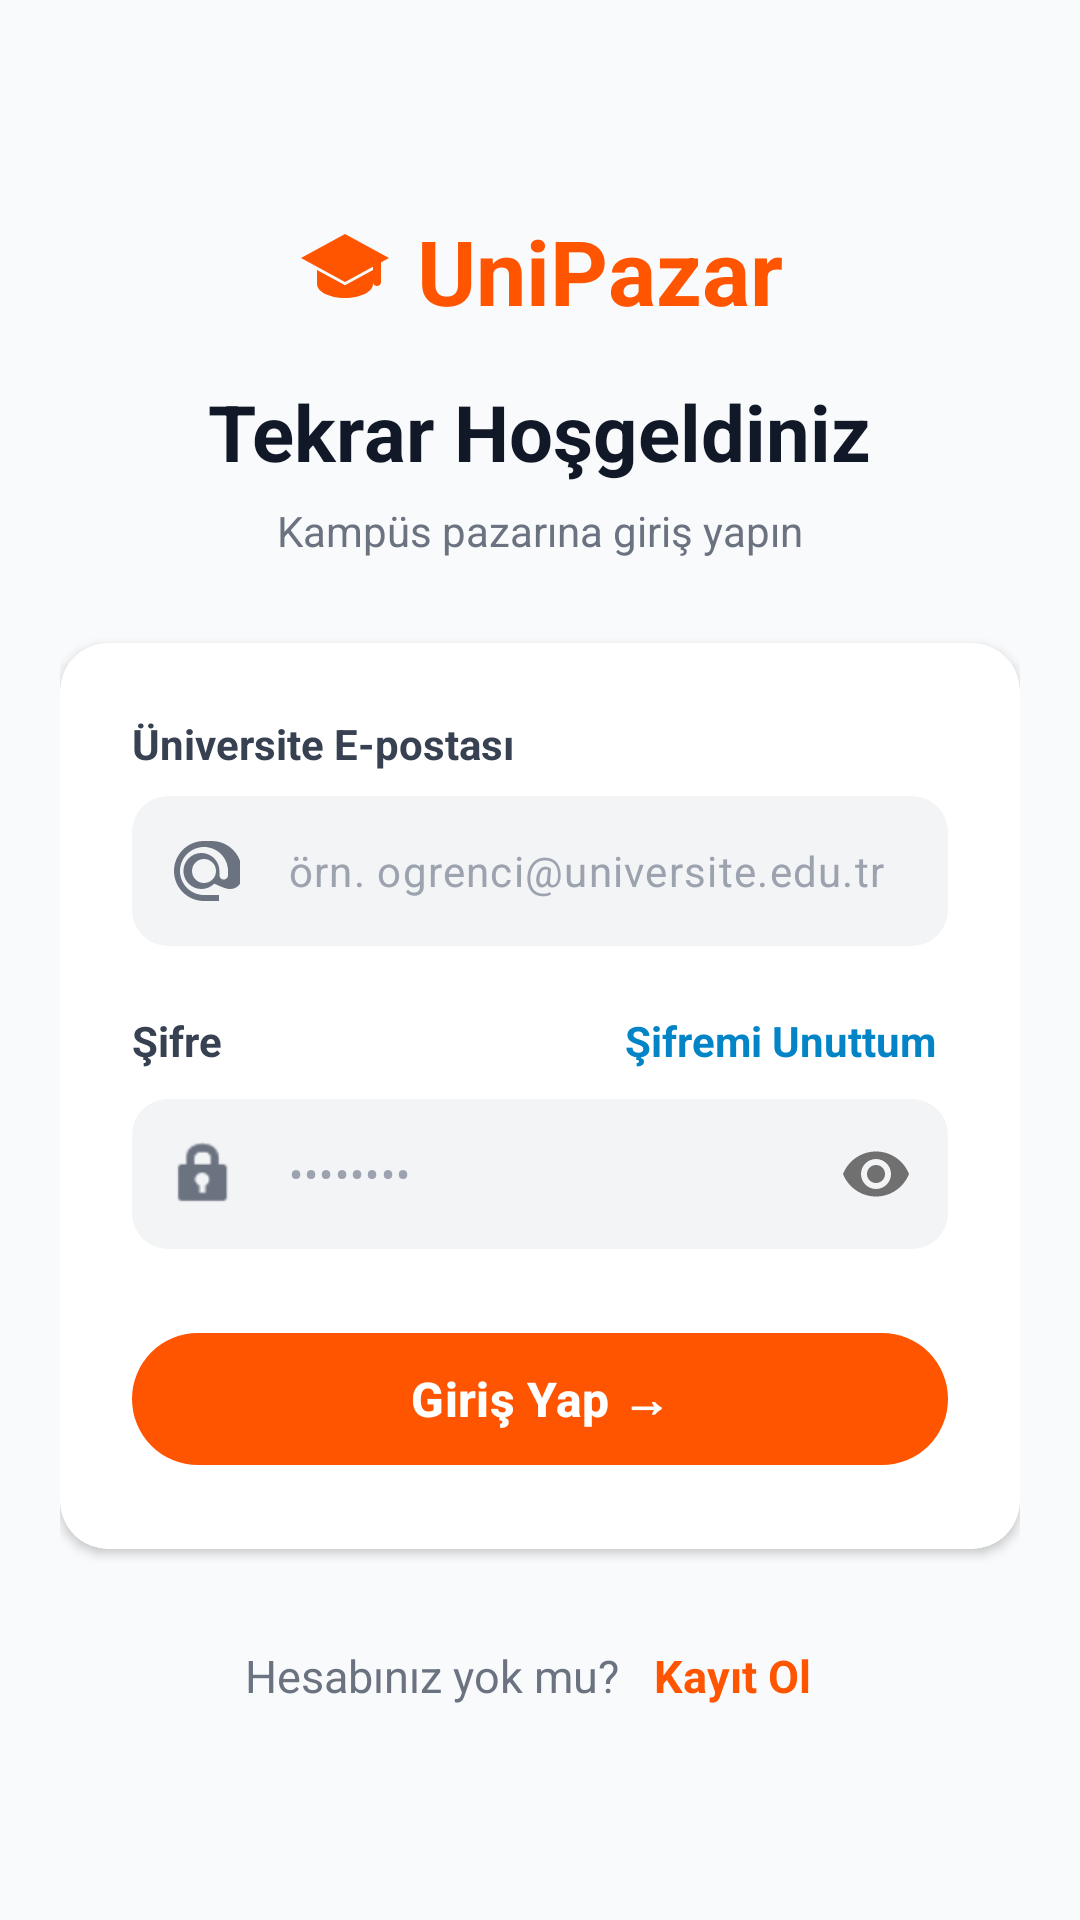

Where to tap for icons on this 1080px×1920px app screen, as [x,y]:
grad cap: [345,266]
